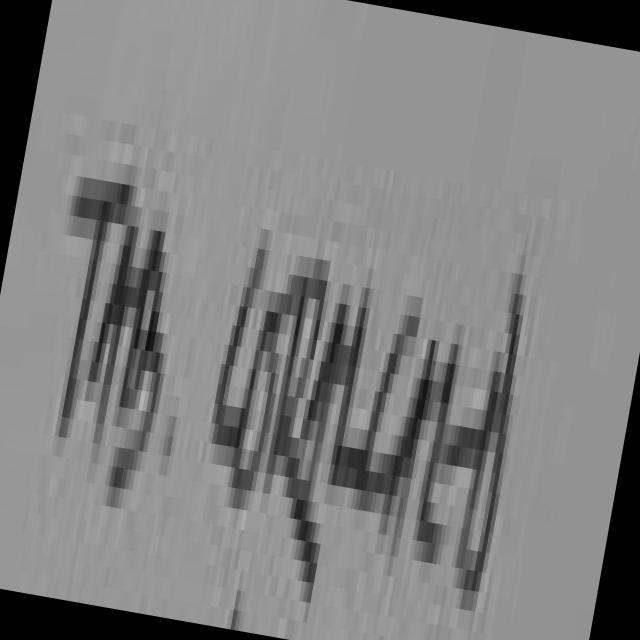A: (85, 226, 138, 430), (390, 341, 437, 549), (303, 304, 348, 492)
B: (110, 231, 168, 507)
C: (356, 317, 418, 517), (216, 248, 267, 444)
D: (458, 290, 521, 606)
L: (414, 341, 460, 561), (329, 305, 367, 495)
O: (233, 311, 280, 508)
R: (259, 262, 330, 593)
T: (60, 176, 132, 428)
